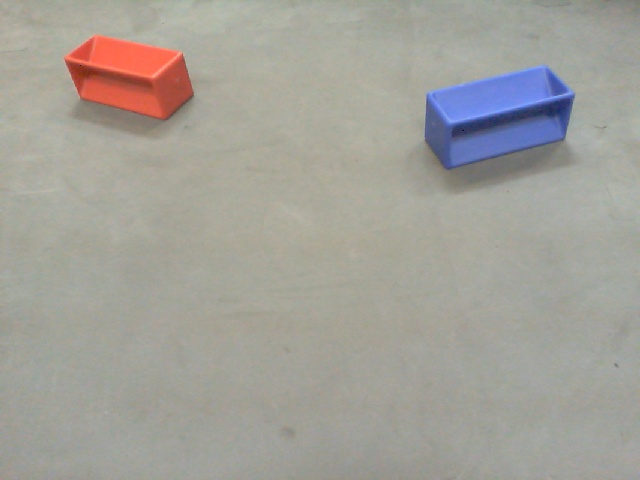BlueSample: (423, 58, 583, 172)
RedSample: (62, 31, 199, 126)
